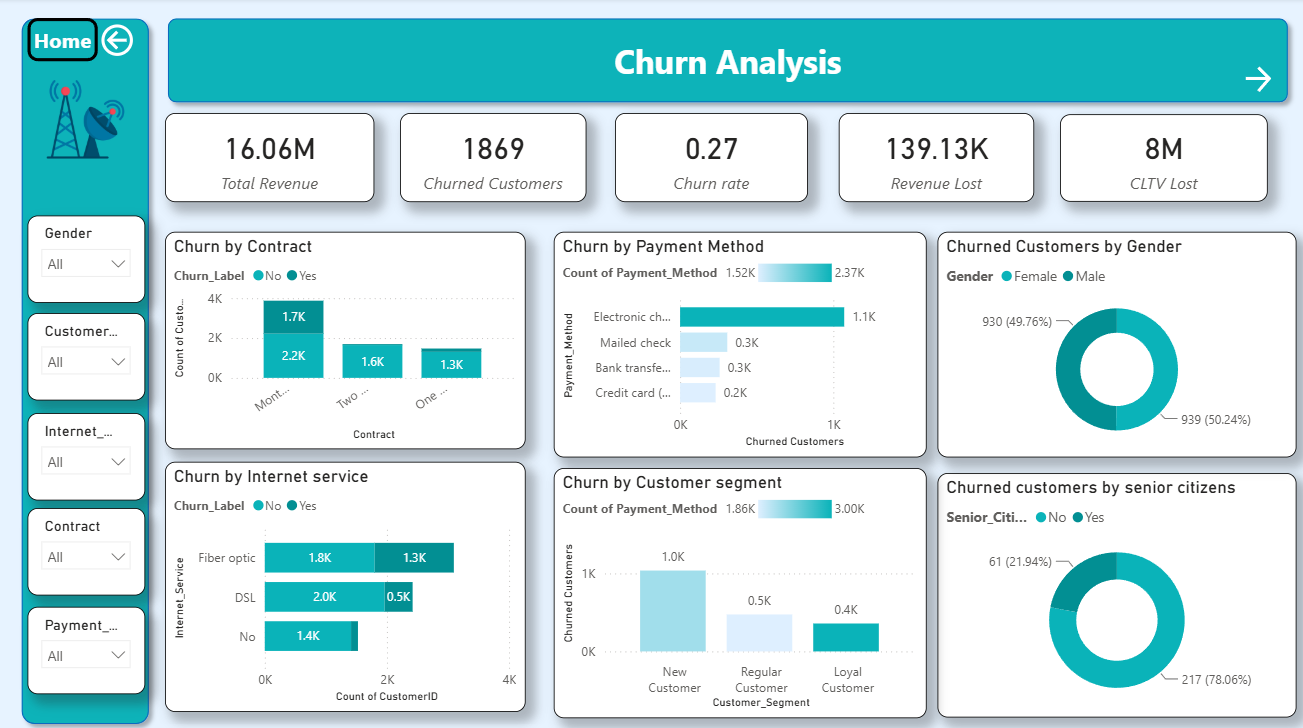

This screenshot's page, from the dashboard's own definition file:
{"tool":"powerbi","page":{"name":"Churn Analysis","canvas":[1280,720],"ordinal":4},"visuals":[{"type":"card","fields":{"Values":["TELCO.Total Revenue"]},"box":[161.2,112.3,204.8,87.2],"z":0},{"type":"card","fields":{"Values":["TELCO.Revenue Lost"]},"box":[820.5,112.3,191.6,87.2],"z":1000},{"type":"card","fields":{"Values":["TELCO.CLTV Lost"]},"box":[1037.2,113.6,203.5,85.9],"z":2000},{"type":"shape","box":[155.2,11.5,1113.5,100.1],"z":3000},{"type":"donutChart","title":"Churned customers by senior citizens","fields":{"Category":["TELCO.Senior_Citizen"],"Y":["TELCO.Churned Customers"]},"box":[916.9,465.1,351.4,239.1],"z":4000},{"type":"shape","box":[12.8,11.5,142.4,708.1],"z":5000},{"type":"slicer","fields":{"Values":["TELCO.Gender"]},"box":[26.4,212.7,114.9,85.9],"z":6000},{"type":"slicer","fields":{"Values":["TELCO.Customer_Segment"]},"box":[26.4,307.8,114.9,85.9],"z":7000},{"type":"clusteredBarChart","title":"Churn by Payment Method","fields":{"Category":["TELCO.Payment_Method"],"Y":["TELCO.Churned Customers"]},"box":[541.7,228.6,364.7,220.6],"z":8000},{"type":"columnChart","title":"Churn by Contract","fields":{"Category":["TELCO.Contract"],"Series":["TELCO.Churn_Label"],"Y":["CountNonNull(TELCO.CustomerID)"]},"box":[161.6,228.3,352.8,212.9],"z":9000},{"type":"slicer","fields":{"Values":["TELCO.Internet_Service"]},"box":[26.4,405.6,114.9,85.9],"z":10000},{"type":"barChart","title":"Churn by Internet service","fields":{"Series":["TELCO.Churn_Label"],"Category":["TELCO.Internet_Service"],"Y":["CountNonNull(TELCO.CustomerID)"]},"box":[161.6,454.1,352.8,245],"z":11000},{"type":"clusteredColumnChart","title":"Churn by Customer segment","fields":{"Category":["TELCO.Customer_Segment"],"Y":["TELCO.Churned Customers"]},"box":[541.7,459.8,364.7,244.4],"z":12000},{"type":"card","fields":{"Values":["TELCO.Churned Customers"]},"box":[391.1,112.3,182.3,87.2],"z":13000},{"type":"card","fields":{"Values":["TELCO.Churn rate"]},"box":[601.2,112.3,188.9,87.2],"z":14000},{"type":"donutChart","fields":{"Category":["TELCO.Gender"],"Y":["TELCO.Churned Customers"]},"box":[916.9,228.6,351.4,220.6],"z":15000},{"type":"slicer","fields":{"Values":["TELCO.Contract"]},"box":[26.4,499.4,114.9,85.9],"z":16000},{"type":"slicer","fields":{"Values":["TELCO.Payment_Method"]},"box":[26.4,595.9,114.9,85.9],"z":17000},{"type":"actionButton","box":[26.4,19.8,68.7,42.3],"z":18000},{"type":"actionButton","box":[93.8,21.1,60.8,41],"z":19000},{"type":"actionButton","box":[1212.6,62.1,67.4,34.4],"z":20000},{"type":"image","box":[45.2,79.5,77,78.3],"z":20001}]}

Visuals, with their boxes in screenshot pixels (x1, y1, x2, y2), scaled from the page's 1280x720 canvas onto the 1303x728 screenshot:
card - TELCO.Total Revenue: (x1=164, y1=114, x2=373, y2=202)
card - TELCO.Revenue Lost: (x1=835, y1=114, x2=1030, y2=202)
card - TELCO.CLTV Lost: (x1=1056, y1=115, x2=1263, y2=202)
shape: (x1=158, y1=12, x2=1291, y2=113)
"Churned customers by senior citizens" donutChart: (x1=933, y1=470, x2=1291, y2=712)
shape: (x1=13, y1=12, x2=158, y2=727)
slicer - TELCO.Gender: (x1=27, y1=215, x2=144, y2=302)
slicer - TELCO.Customer_Segment: (x1=27, y1=311, x2=144, y2=398)
"Churn by Payment Method" clusteredBarChart: (x1=551, y1=231, x2=923, y2=454)
"Churn by Contract" columnChart: (x1=165, y1=231, x2=524, y2=446)
slicer - TELCO.Internet_Service: (x1=27, y1=410, x2=144, y2=497)
"Churn by Internet service" barChart: (x1=165, y1=459, x2=524, y2=707)
"Churn by Customer segment" clusteredColumnChart: (x1=551, y1=465, x2=923, y2=712)
card - TELCO.Churned Customers: (x1=398, y1=114, x2=584, y2=202)
card - TELCO.Churn rate: (x1=612, y1=114, x2=804, y2=202)
donutChart - TELCO.Gender x TELCO.Churned Customers: (x1=933, y1=231, x2=1291, y2=454)
slicer - TELCO.Contract: (x1=27, y1=505, x2=144, y2=592)
slicer - TELCO.Payment_Method: (x1=27, y1=603, x2=144, y2=689)
actionButton: (x1=27, y1=20, x2=97, y2=63)
actionButton: (x1=95, y1=21, x2=157, y2=63)
actionButton: (x1=1234, y1=63, x2=1302, y2=98)
image: (x1=46, y1=80, x2=124, y2=160)
